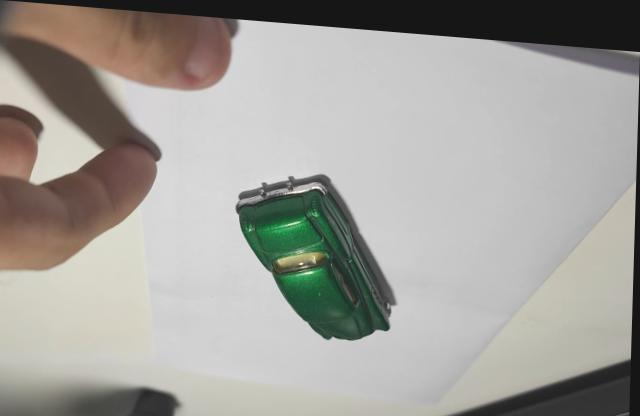06_MASERATI: (236, 172, 399, 334)
